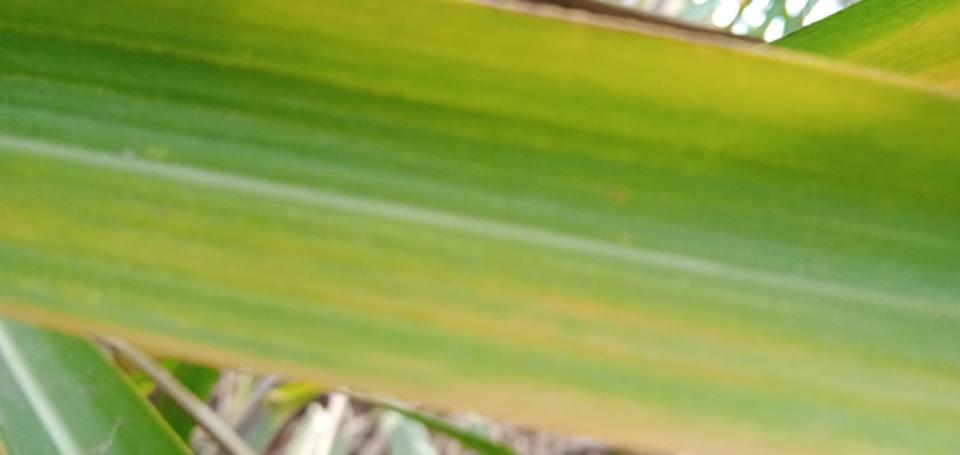Yellow: (0, 194, 959, 454), (221, 0, 959, 153), (834, 0, 959, 91)
